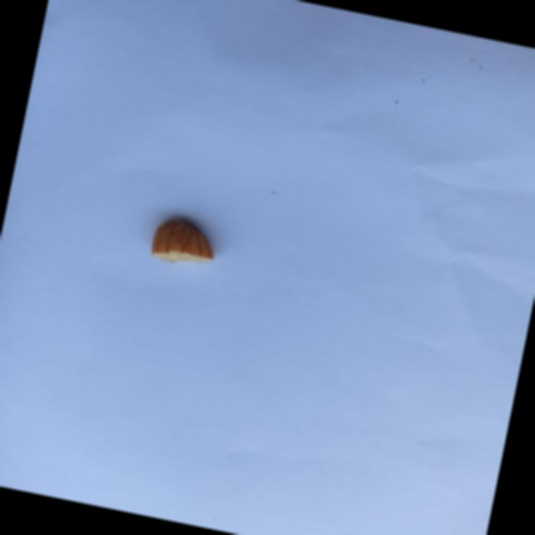grade4: (143, 209, 228, 275)
